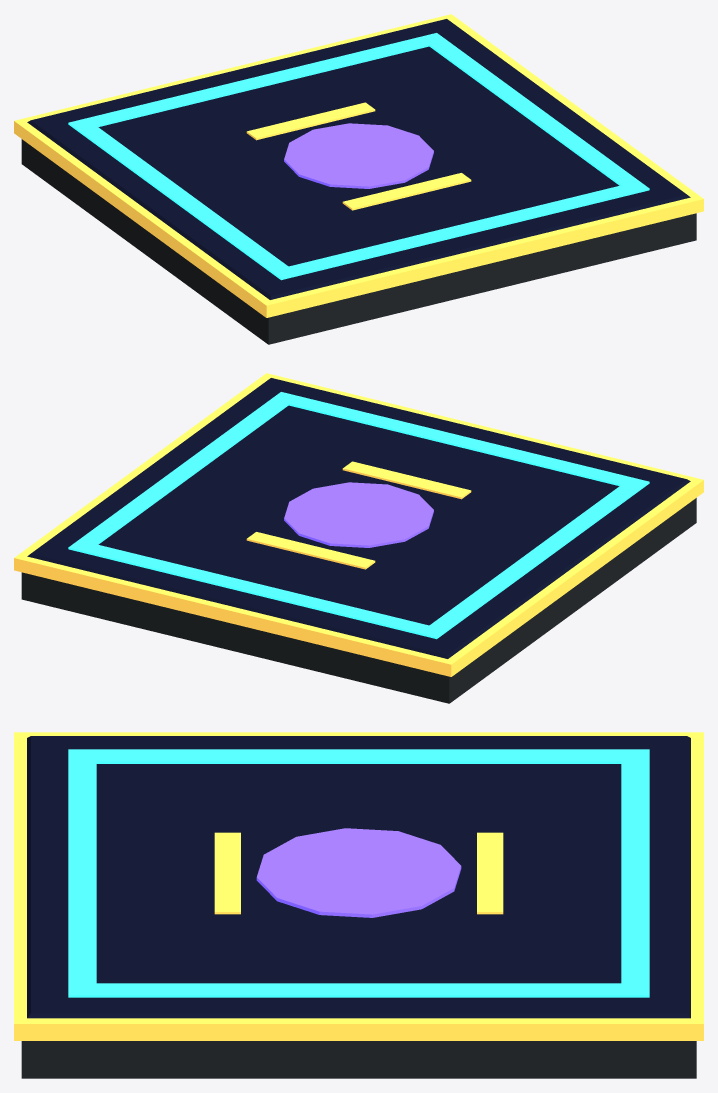
The model's file is skyreach_elevator.glb.
The picture shows the model from 3 angles, top to bottom: view 1: azimuth 30°, elevation 25°; view 2: azimuth 150°, elevation 25°; view 3: azimuth 270°, elevation 25°; orthographic projection. The views are drawn at different scales.
Visible parts, largest first — view 1: skyreach_elevator; view 2: skyreach_elevator; view 3: skyreach_elevator.
Part boxes in pixels (x1=…): skyreach_elevator: x1=14, y1=14, x2=703, y2=344; skyreach_elevator: x1=14, y1=373, x2=703, y2=703; skyreach_elevator: x1=14, y1=732, x2=703, y2=1078.
Size of the model in its own units: 3.68 by 0.38 by 3.68.
